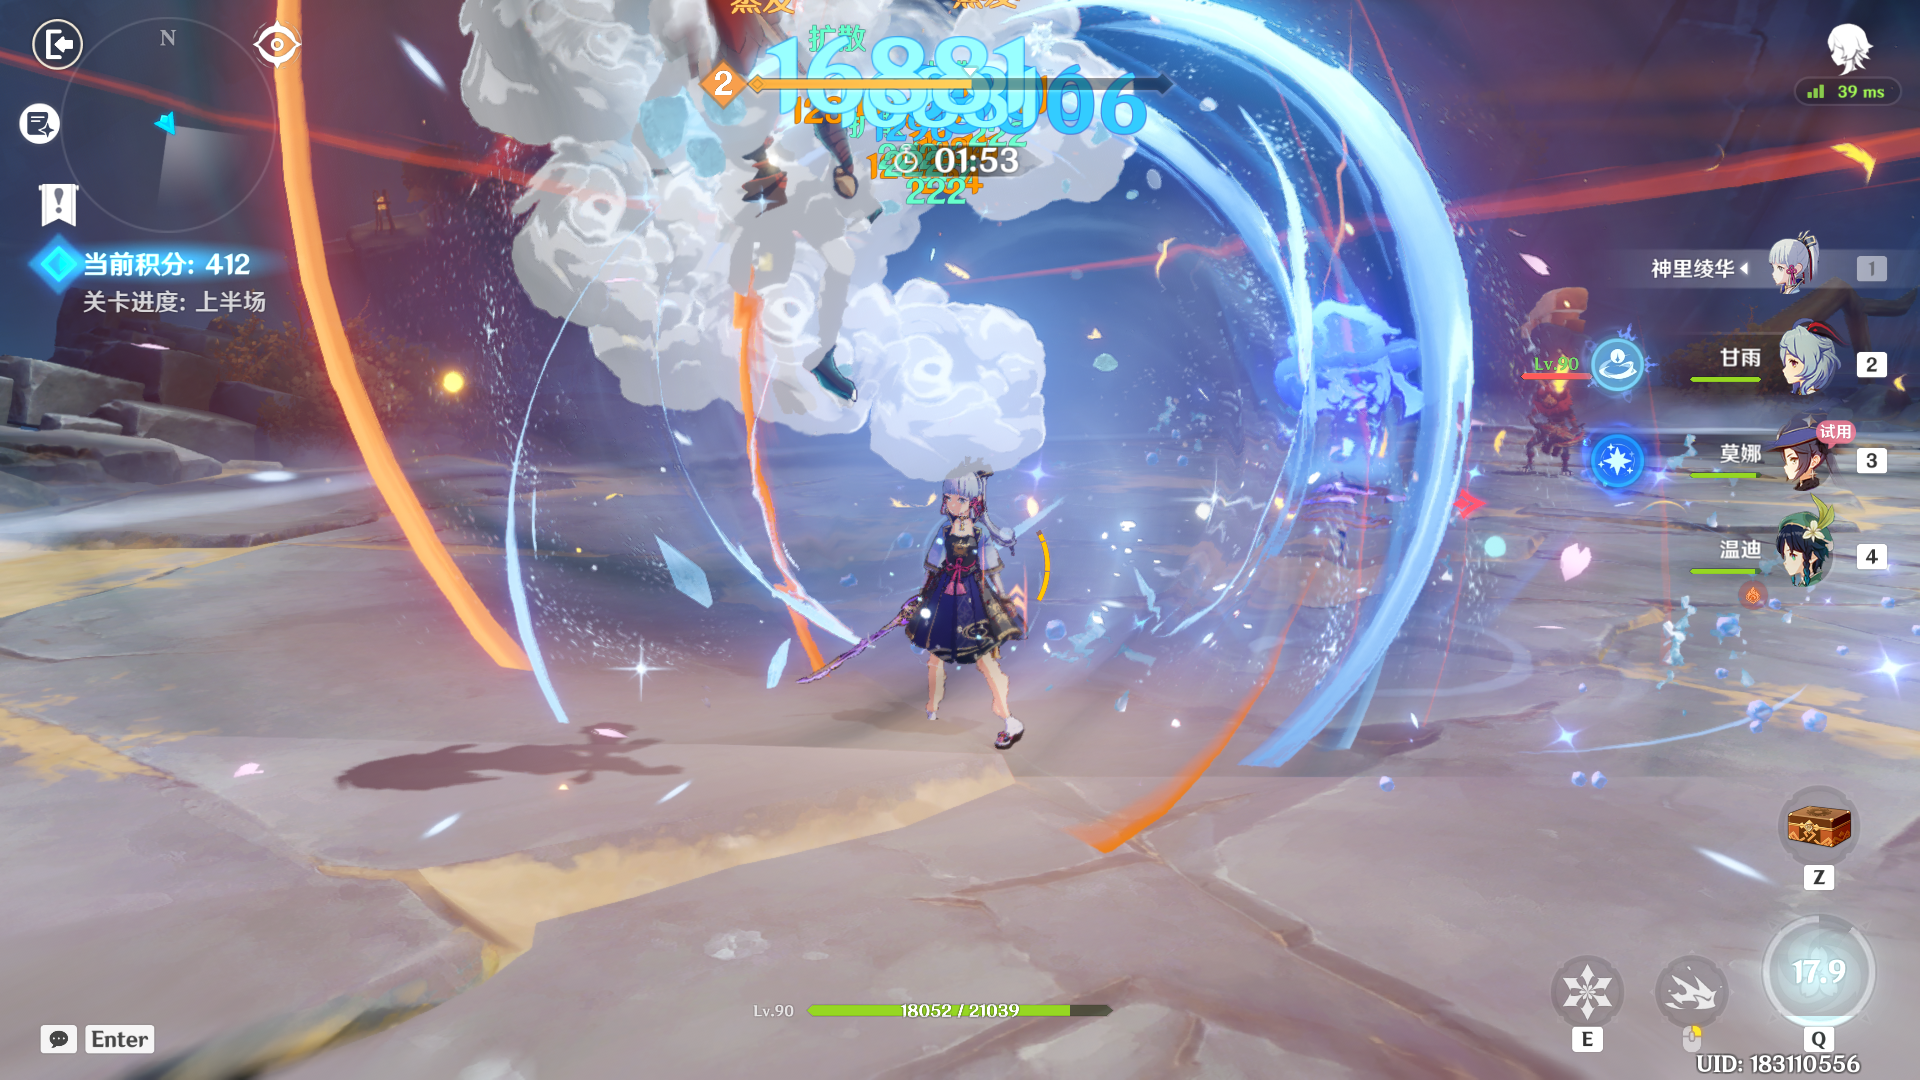character: (804, 456, 1062, 799)
hili: (1487, 352, 1605, 495)
